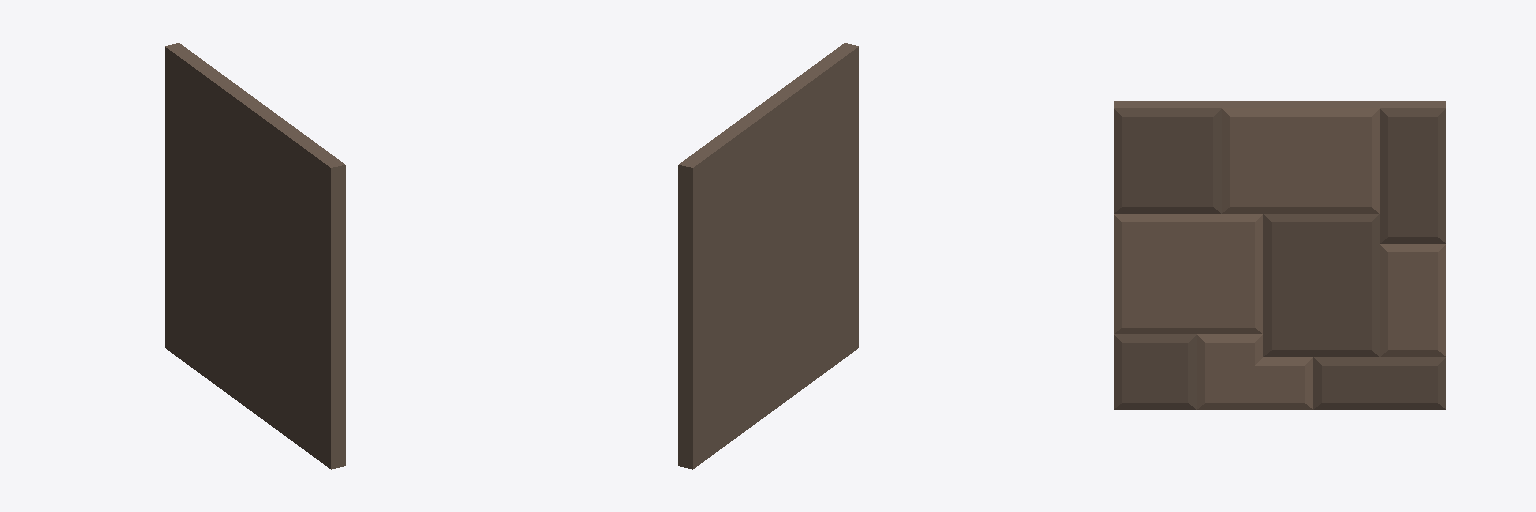
Rendered from Stone_Wall_3.obj.
3 renders of one model, left to right at view 1: azimuth 30°, elevation 25°; view 2: azimuth 150°, elevation 25°; view 3: azimuth 270°, elevation 25°, orthographic.
Parts seen in each view (by area): view 1: object1; view 2: object1; view 3: object1.
Boxes of the visible parts, x1,y1,x2,y2 form: object1: [165, 43, 345, 469]; object1: [678, 43, 858, 469]; object1: [1114, 101, 1445, 409].
Size of the model in its own units: 0.0563 by 1 by 1.